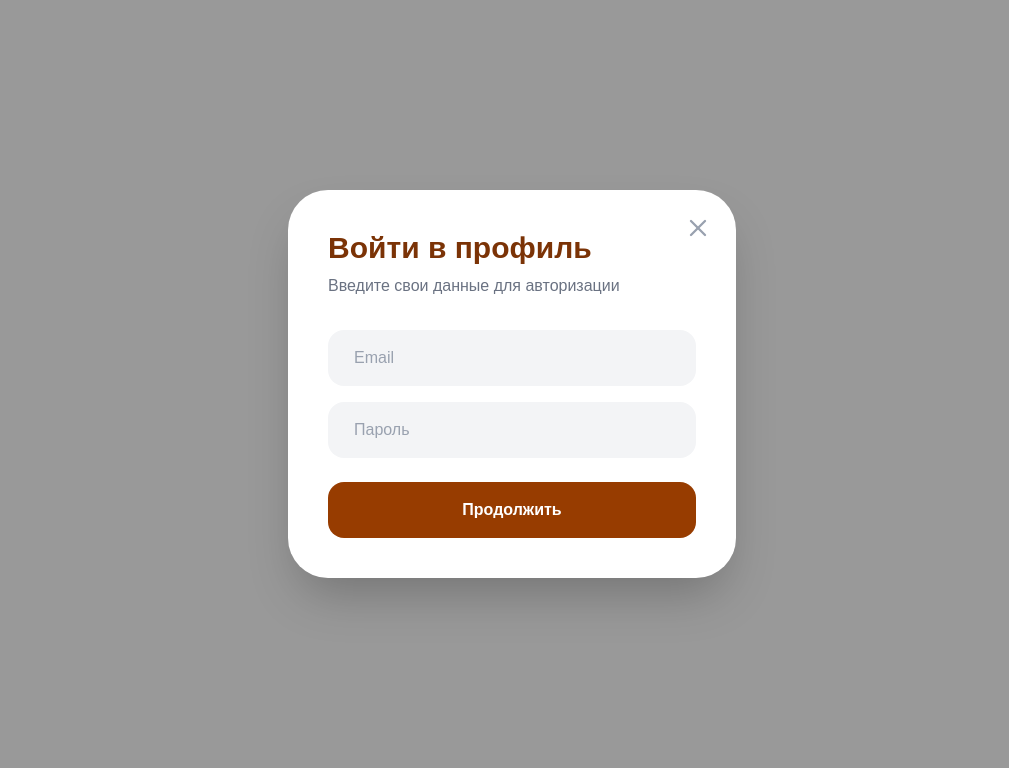
Test: AuthModal › отображает ошибку, если сервер вернул JSON с сообщением
In the field with placeholder "Email": [512, 358] box [328, 330, 696, 386], type "wrong@test.com"
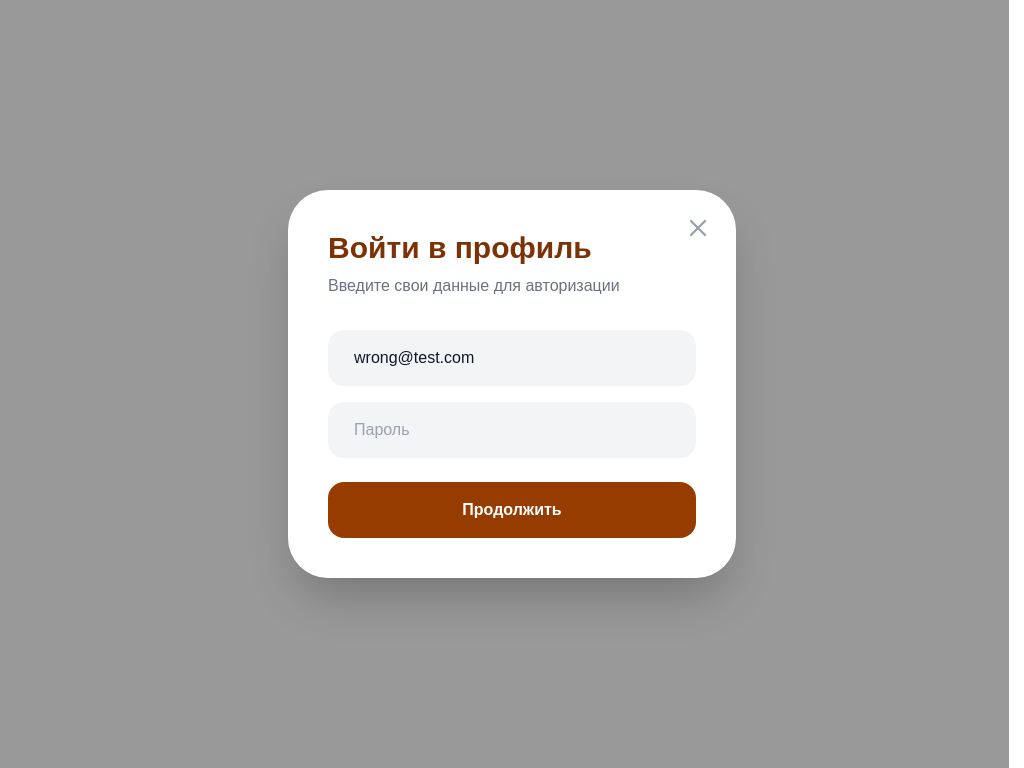
In the password field with placeholder "Пароль": [512, 430] box [328, 402, 696, 458], type "123456"
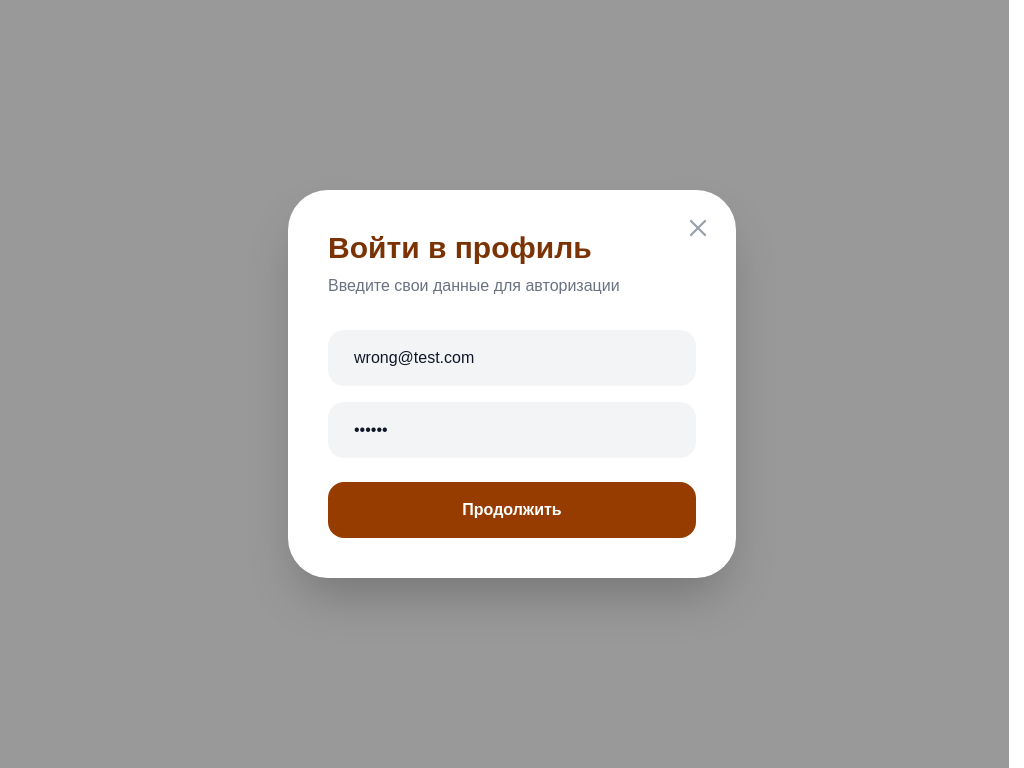
Click the button "Продолжить": [512, 510] box [328, 482, 696, 538]
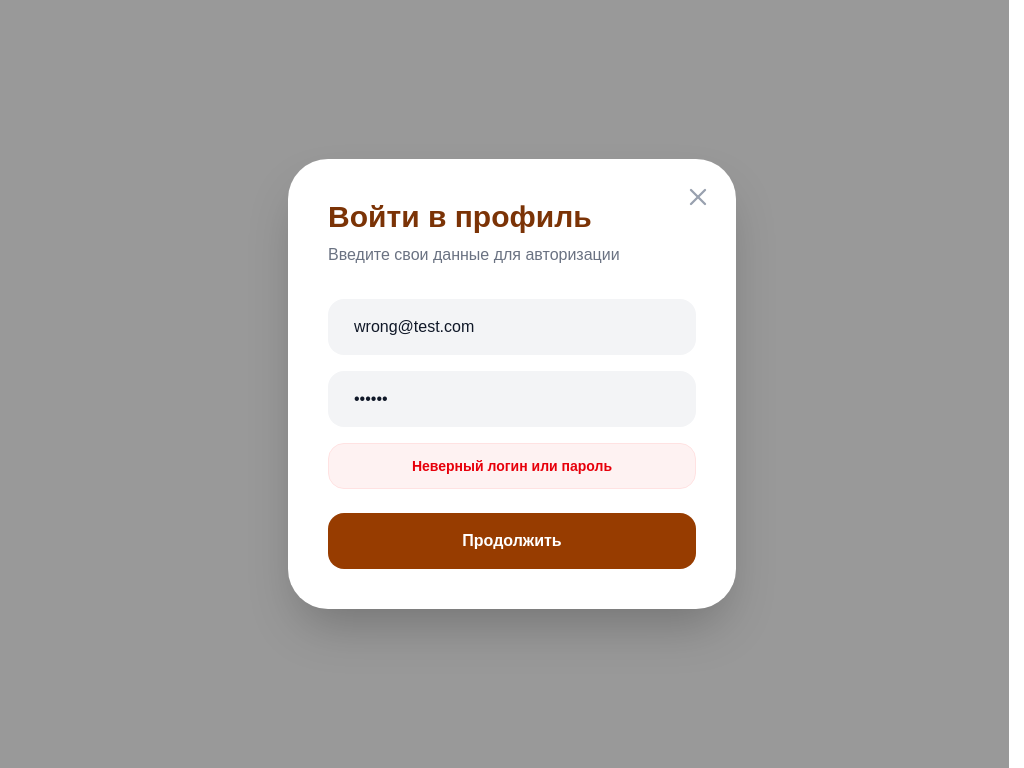
Check: the text "Неверный логин или пароль" is shown, box [328, 443, 696, 489]
